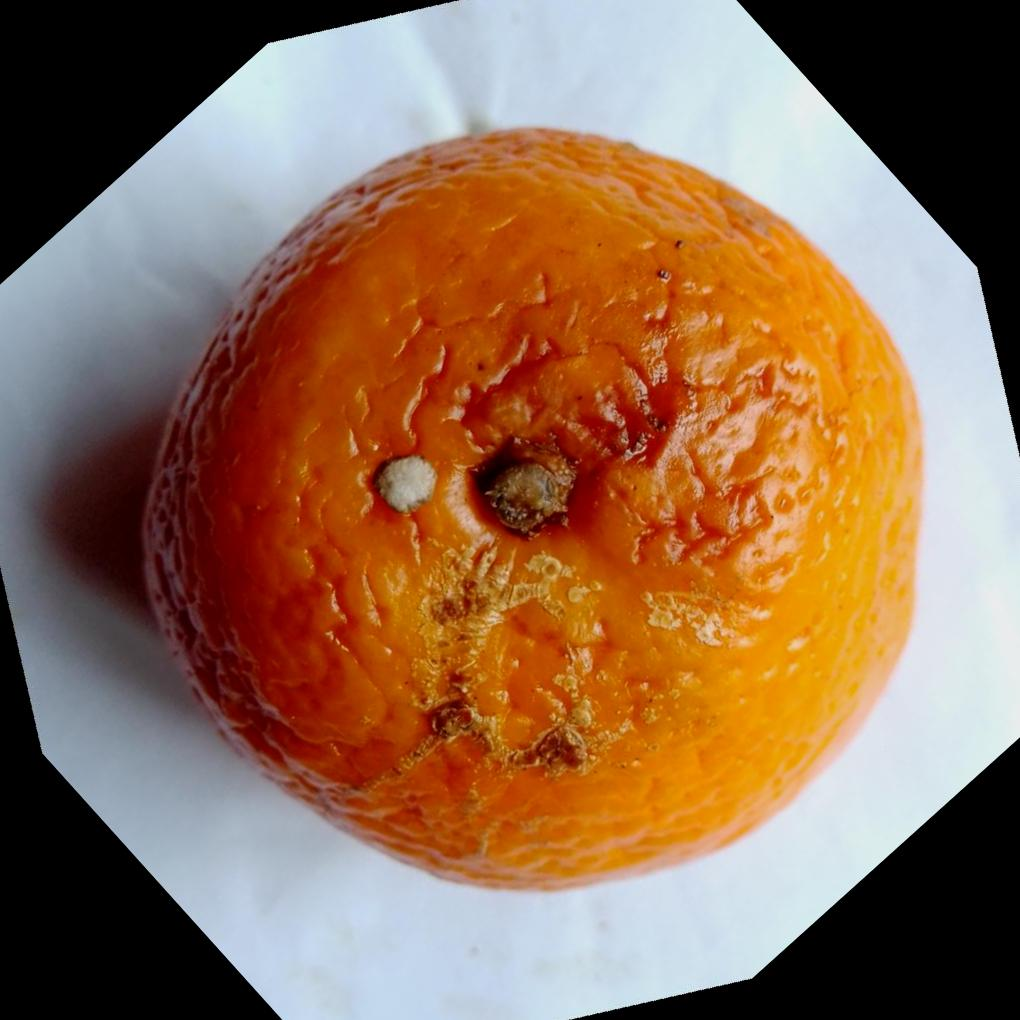FreshOrange: (140, 121, 933, 892)
